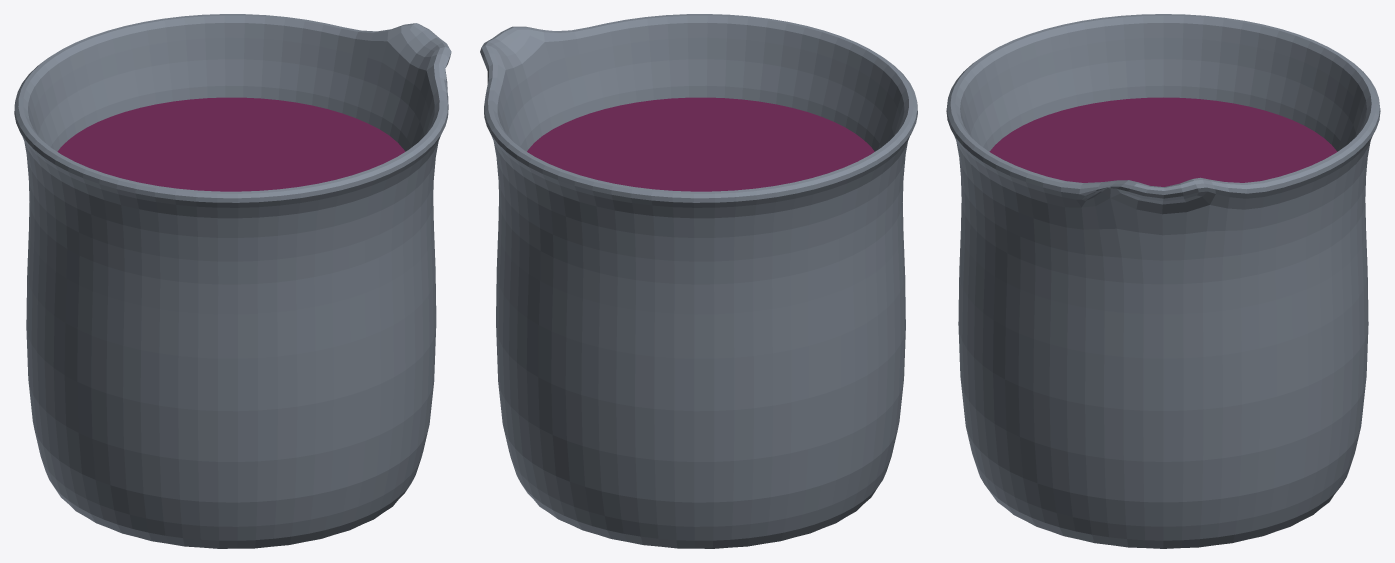
The model's file is PurpleCupLiquid1.fbx.
3 views of the same model, side by side, from view 1: azimuth 30°, elevation 25°; view 2: azimuth 150°, elevation 25°; view 3: azimuth 270°, elevation 25° (orthographic).
Visible parts, largest first — view 1: Cylinder, Cylinder.001; view 2: Cylinder, Cylinder.001; view 3: Cylinder, Cylinder.001.
Part boxes in pixels (x1=…): Cylinder: x1=14, y1=14, x2=451, y2=548; Cylinder.001: x1=57, y1=97, x2=405, y2=191; Cylinder: x1=480, y1=14, x2=917, y2=548; Cylinder.001: x1=527, y1=97, x2=874, y2=191; Cylinder: x1=946, y1=14, x2=1380, y2=548; Cylinder.001: x1=989, y1=97, x2=1337, y2=186.
Size of the model in its own units: 247 by 238 by 234.
